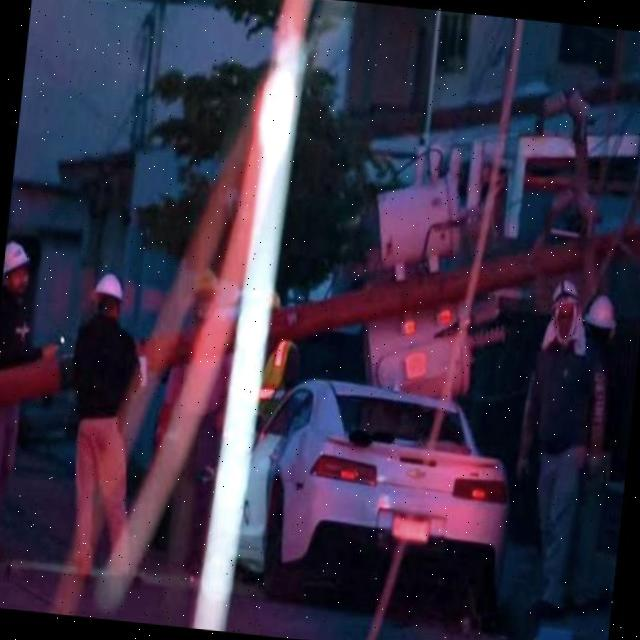Broken Pole: (0, 81, 640, 409)
